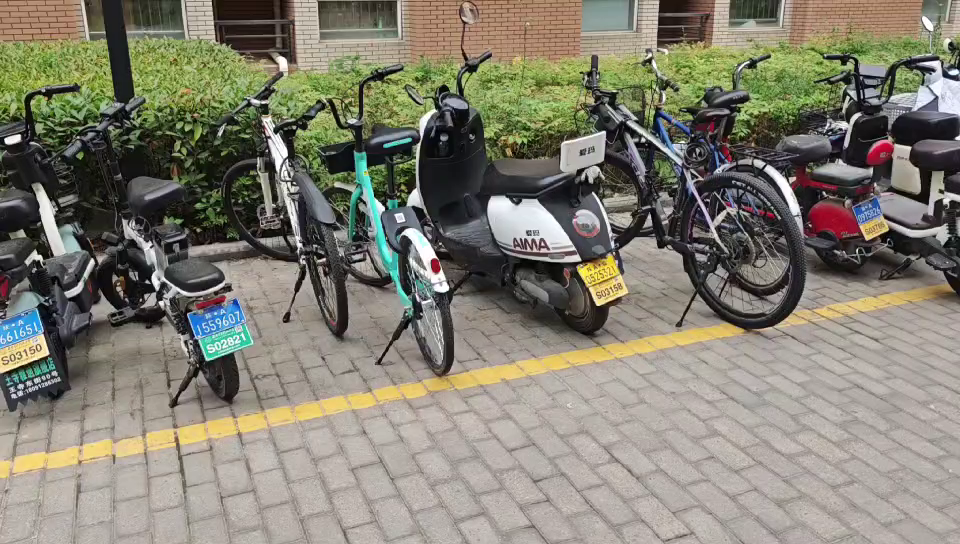others: (701, 56, 960, 293), (589, 58, 805, 335), (60, 95, 240, 412), (427, 50, 613, 326)
shared_bike_qingcong: (302, 64, 452, 377)
